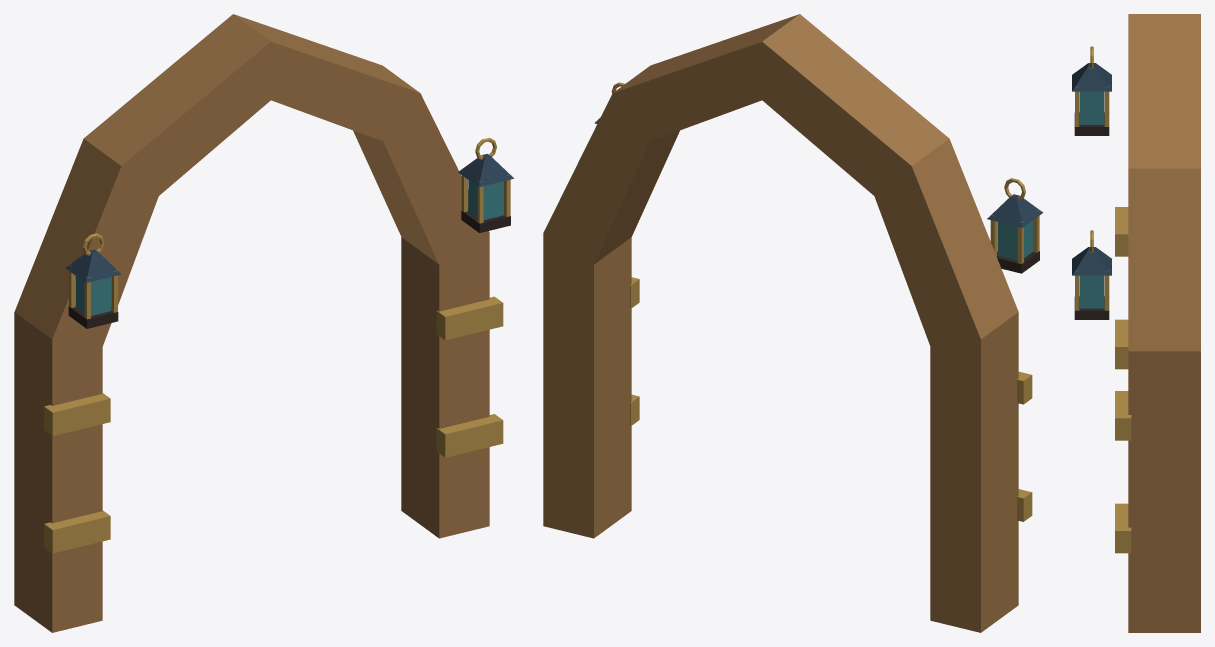
File: PirateCove_WreckRibArch_Showcase.glb
3 renders of one model, left to right at view 1: azimuth 30°, elevation 25°; view 2: azimuth 150°, elevation 25°; view 3: azimuth 270°, elevation 25°, orthographic. The views are drawn at different scales.
Parts seen in each view (by area): view 1: PirateCove_WreckRibArch_Showcase; view 2: PirateCove_WreckRibArch_Showcase; view 3: PirateCove_WreckRibArch_Showcase.
Boxes of the visible parts, left/top/right/bottom form: PirateCove_WreckRibArch_Showcase: left=14, top=14, right=513, bottom=632; PirateCove_WreckRibArch_Showcase: left=543, top=14, right=1043, bottom=632; PirateCove_WreckRibArch_Showcase: left=1072, top=14, right=1200, bottom=632.
Size of the model in its own units: 2.41 by 2.75 by 0.6212.
